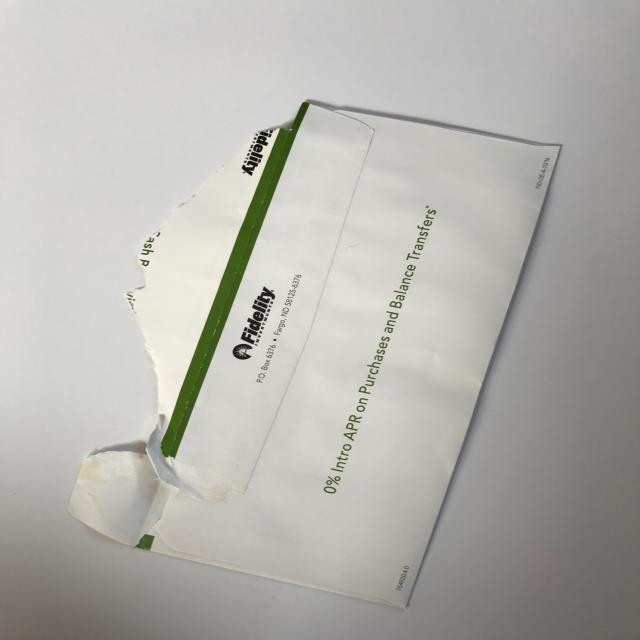paper: (66, 101, 560, 610)
